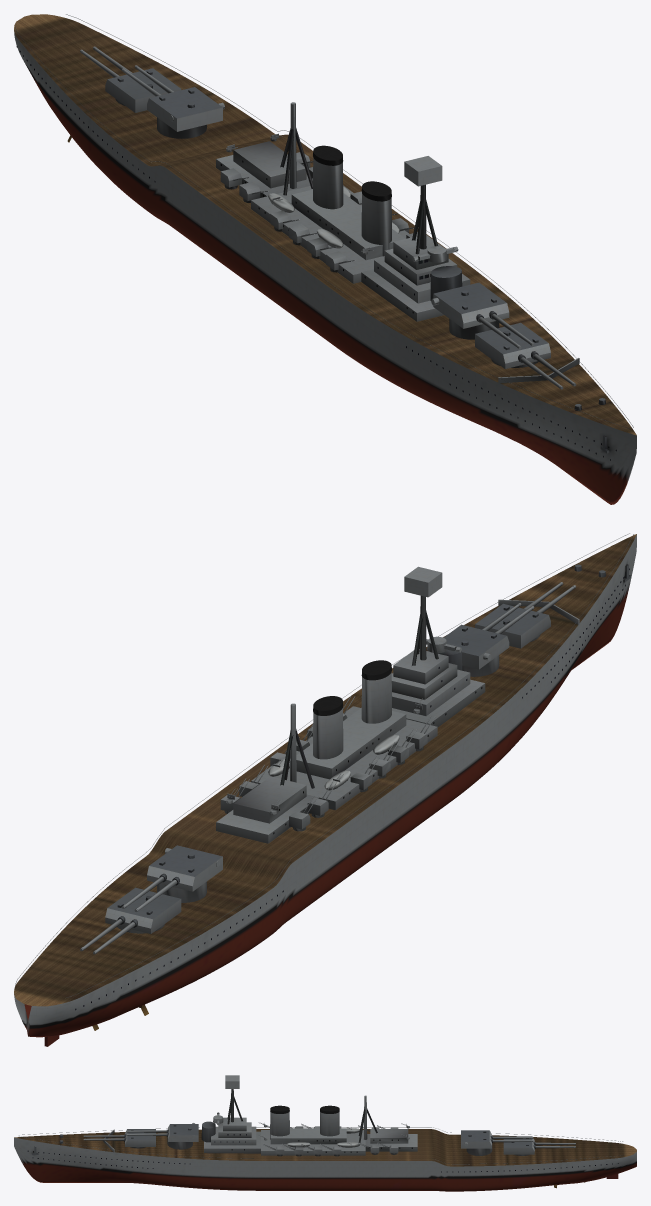
The model's file is model_built.glb.
3 views of the same model, one above another, from view 1: azimuth 30°, elevation 25°; view 2: azimuth 150°, elevation 25°; view 3: azimuth 270°, elevation 25° (orthographic). The views are drawn at different scales.
Parts seen in each view (by area): view 1: main; view 2: main; view 3: main.
Part boxes in pixels (left/top/right/bottom): main: left=14, top=14, right=636, bottom=504; main: left=14, top=533, right=636, bottom=1046; main: left=14, top=1075, right=636, bottom=1191.
Size of the model in its own units: 31.9 by 48.55 by 262.
2 materials, 2 textured.
